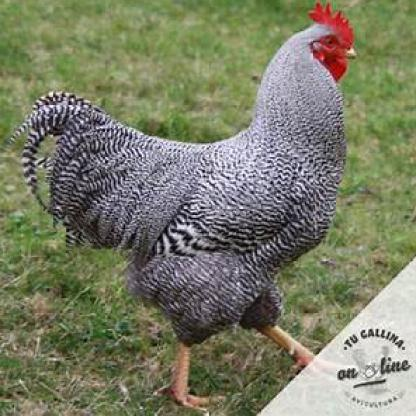chicken: (6, 0, 359, 411)
